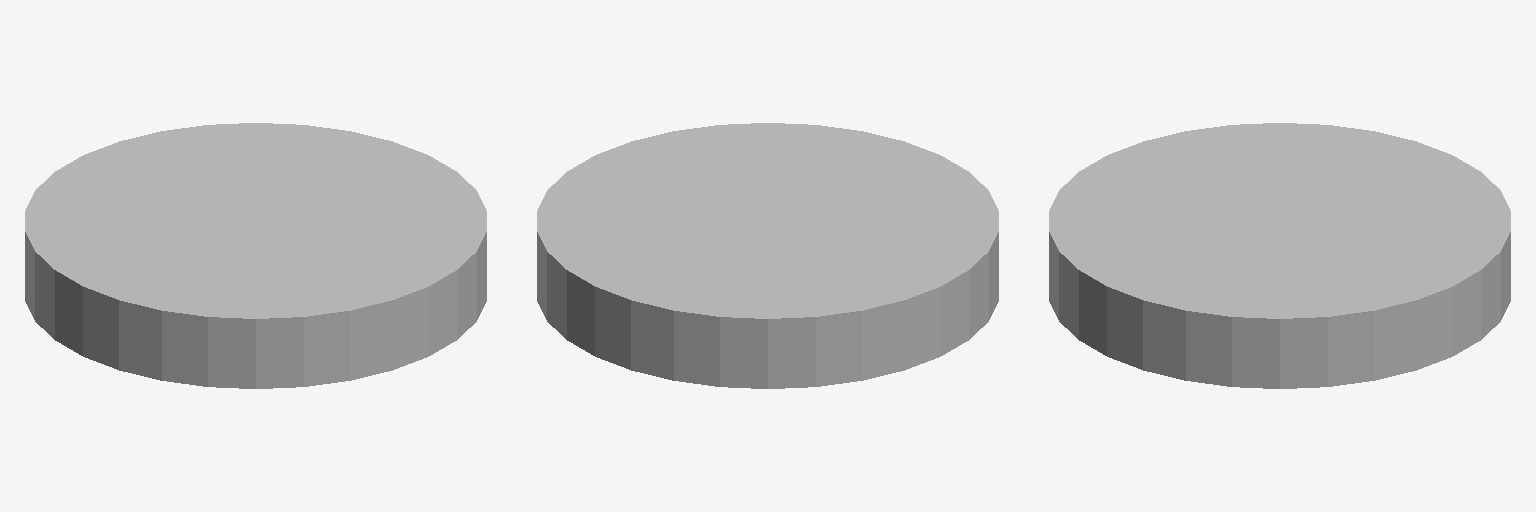
Rendered from light base.obj.
3 renders of one model, left to right at view 1: azimuth 30°, elevation 25°; view 2: azimuth 150°, elevation 25°; view 3: azimuth 270°, elevation 25°, orthographic.
Parts seen in each view (by area): view 1: light_base; view 2: light_base; view 3: light_base.
Boxes of the visible parts, x1,y1,x2,y2 form: light_base: [25, 123, 486, 388]; light_base: [537, 123, 998, 388]; light_base: [1049, 123, 1510, 388].
Size of the model in its own units: 6 by 1 by 5.97.